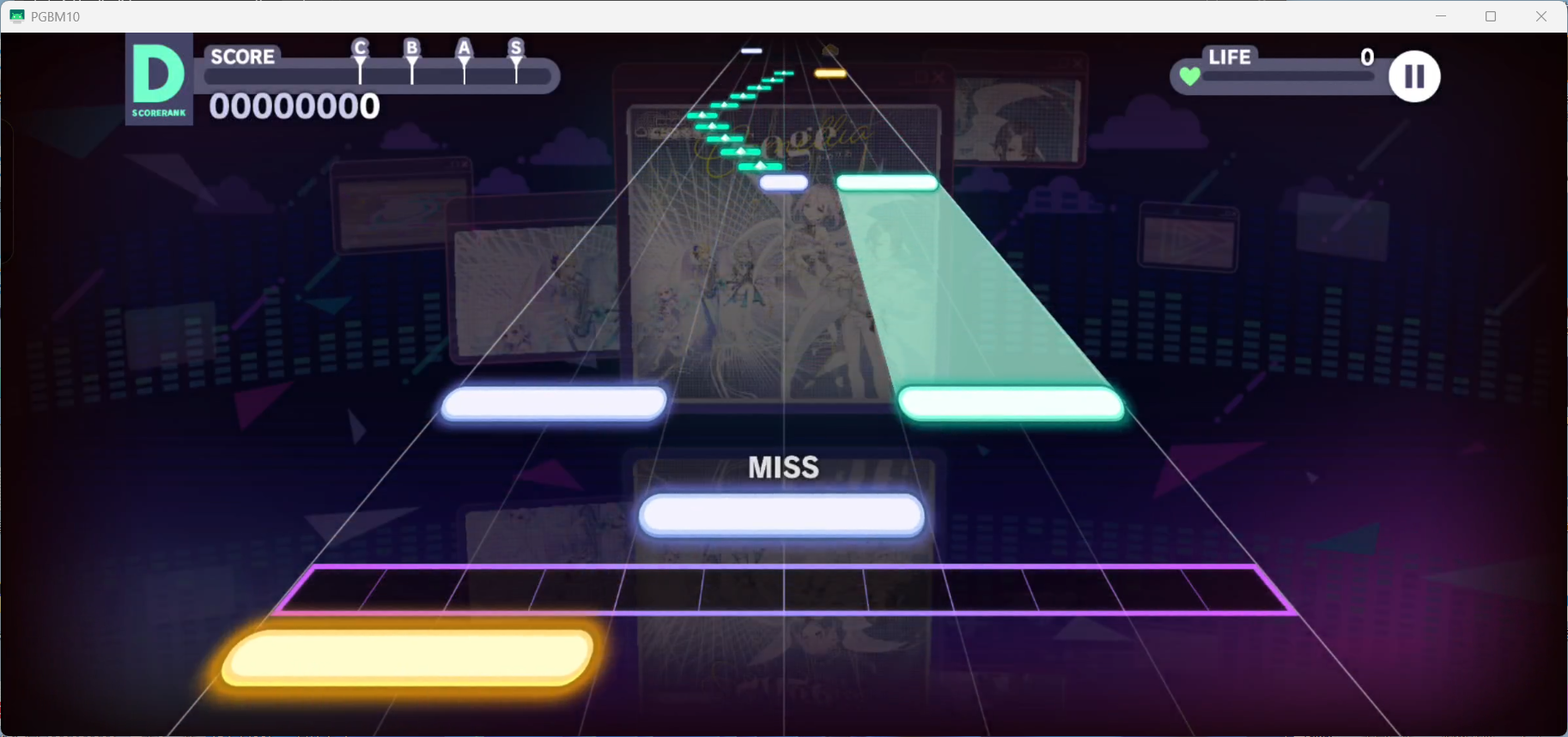flick: (822, 42, 839, 57)
hold: (839, 191, 1105, 386)
sweep: (738, 160, 783, 171), (720, 147, 761, 156), (695, 122, 729, 131), (706, 134, 744, 142), (687, 111, 717, 119), (730, 92, 756, 100), (710, 101, 738, 108), (747, 83, 771, 90), (774, 69, 794, 76), (761, 76, 783, 82)
tap: (218, 629, 593, 689), (639, 493, 927, 540), (898, 385, 1125, 424), (441, 384, 668, 422), (836, 175, 937, 191), (760, 173, 809, 191), (814, 69, 847, 78), (740, 47, 763, 53)
